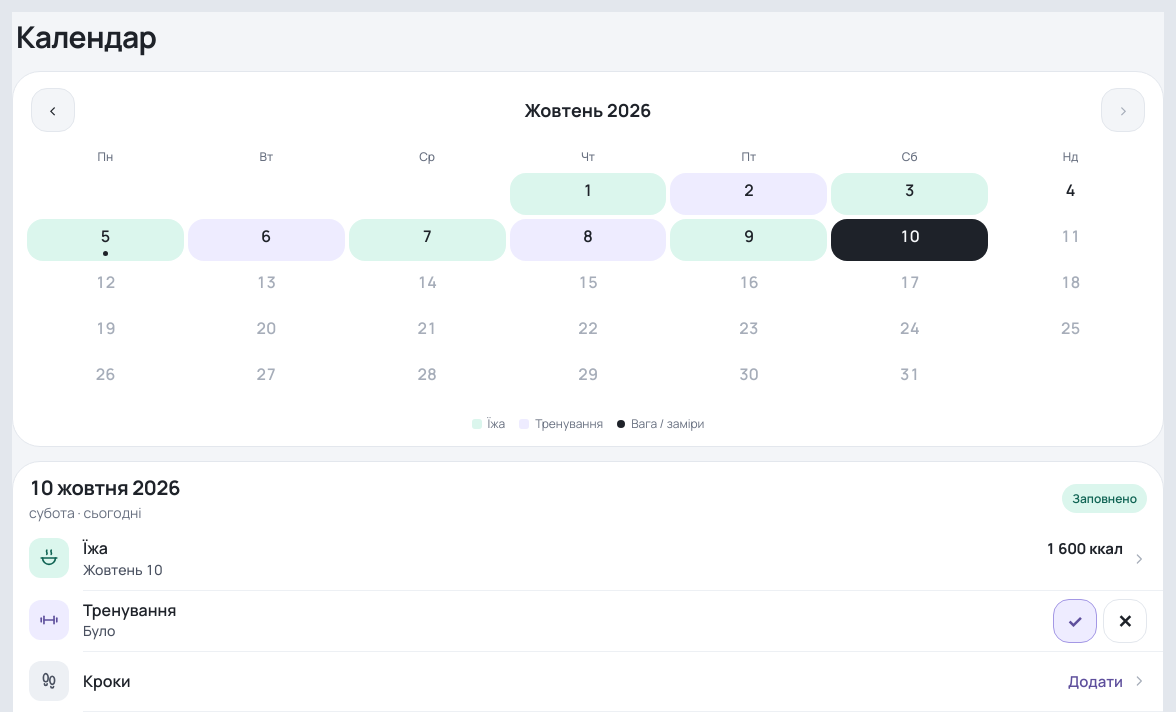
Test case: CalendarScreen › selects a day with a replaced URL
Click the button named "5 жовтня" at (105, 240), box [27,219,184,261]
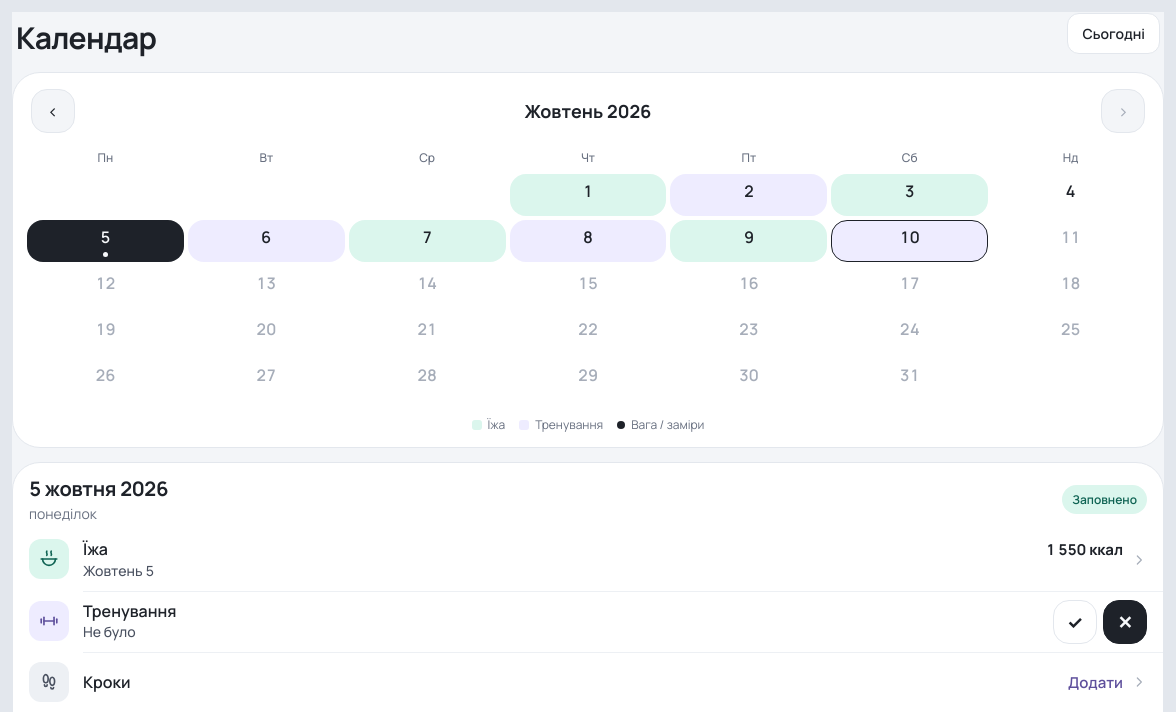
Result: the heading "5 жовтня 2026" is shown at [29,475,168,502]
